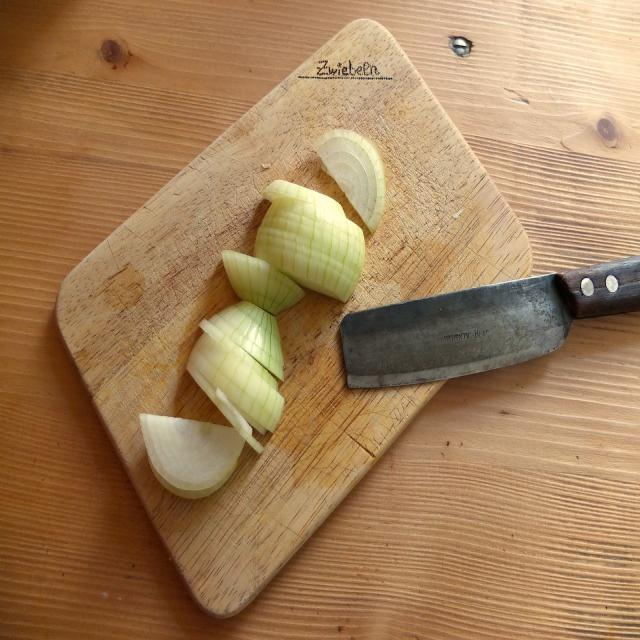knife: (339, 256, 640, 389)
